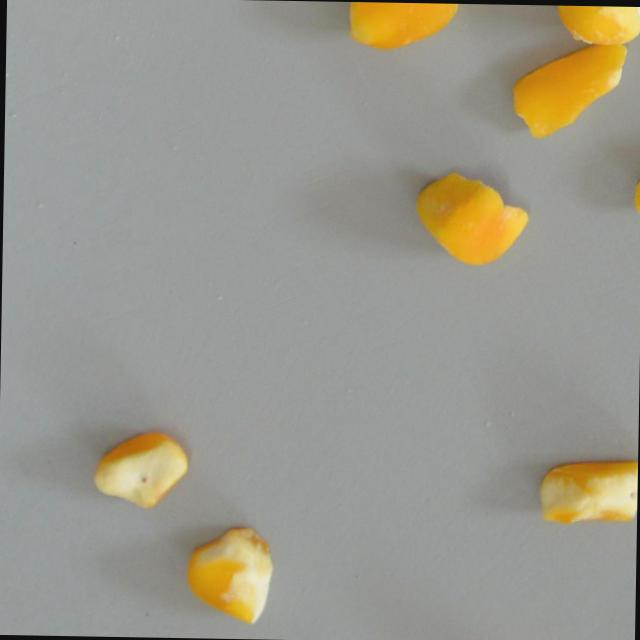dañado: (414, 170, 528, 272)
estandar: (500, 37, 635, 141), (178, 521, 283, 627), (342, 0, 460, 56)
punto_negro: (91, 429, 190, 513), (535, 457, 638, 528), (551, 4, 640, 46)
